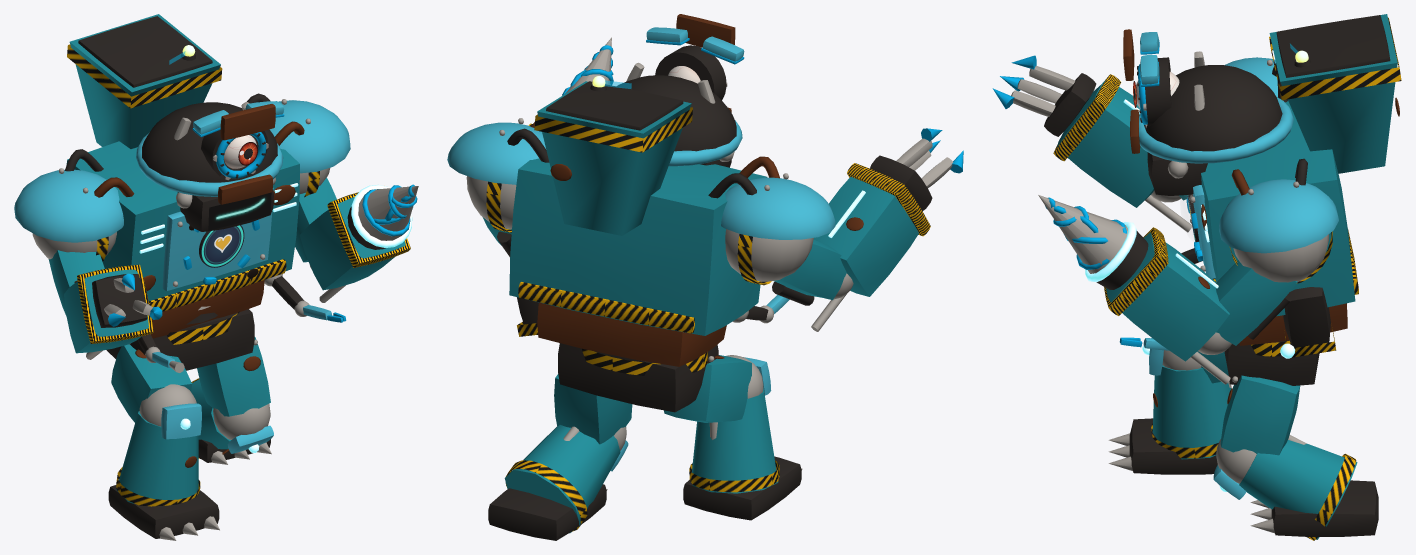
File: prime_alt1.glb
3 renders of one model, left to right at view 1: azimuth 30°, elevation 25°; view 2: azimuth 150°, elevation 25°; view 3: azimuth 270°, elevation 25°, orthographic. The views are drawn at different scales.
Parts seen in each view (by area): view 1: object 32, object 120, object 104, object 106, object 10, object 63, MAKER PRIME ALT 1, object 40, object 140, object 147, object 17, object 2 (+31 smaller); view 2: object 32, object 104, MAKER PRIME ALT 1, object 127, object 33, object 120, object 25, object 10, object 140, object 106, object 63, object 28 (+19 smaller); view 3: object 32, object 104, object 63, object 147, object 140, object 127, object 25, object 10, object 106, object 17, object 143, object 28 (+27 smaller).
Part boxes in pixels (x1=…): object 32: x1=66, y1=141, x2=299, y2=300; object 120: x1=14, y1=169, x2=123, y2=242; object 104: x1=69, y1=14, x2=220, y2=148; object 106: x1=78, y1=16, x2=212, y2=87; object 10: x1=116, y1=411, x2=198, y2=503; object 63: x1=142, y1=102, x2=277, y2=182; MAKER PRIME ALT 1: x1=106, y1=306, x2=254, y2=370; object 40: x1=162, y1=188, x2=273, y2=290; object 140: x1=269, y1=100, x2=350, y2=173; object 147: x1=299, y1=197, x2=405, y2=290; object 17: x1=197, y1=337, x2=270, y2=416; object 2: x1=111, y1=344, x2=191, y2=422; object 32: x1=509, y1=158, x2=767, y2=335; object 104: x1=537, y1=81, x2=691, y2=235; MAKER PRIME ALT 1: x1=558, y1=343, x2=718, y2=412; object 127: x1=813, y1=176, x2=918, y2=296; object 33: x1=537, y1=302, x2=726, y2=366; object 120: x1=721, y1=177, x2=835, y2=239; object 25: x1=504, y1=425, x2=620, y2=533; object 10: x1=692, y1=387, x2=778, y2=493; object 140: x1=447, y1=122, x2=546, y2=184; object 106: x1=546, y1=81, x2=683, y2=130; object 63: x1=617, y1=75, x2=736, y2=151; object 28: x1=488, y1=484, x2=606, y2=540; object 32: x1=1201, y1=97, x2=1355, y2=316; object 104: x1=1269, y1=14, x2=1397, y2=173; object 63: x1=1144, y1=65, x2=1282, y2=151; object 147: x1=1106, y1=232, x2=1229, y2=361; object 140: x1=1219, y1=179, x2=1338, y2=253; object 127: x1=1057, y1=80, x2=1154, y2=207; object 25: x1=1239, y1=440, x2=1357, y2=539; object 10: x1=1152, y1=365, x2=1231, y2=459; object 106: x1=1276, y1=15, x2=1390, y2=77; object 17: x1=1220, y1=375, x2=1300, y2=455; object 143: x1=1216, y1=260, x2=1297, y2=345; object 28: x1=1271, y1=480, x2=1378, y2=536.
Size of what is drawn, in the model's own units: 2.33 by 2.69 by 2.14.
Materials: 174 (16 with a texture image).
